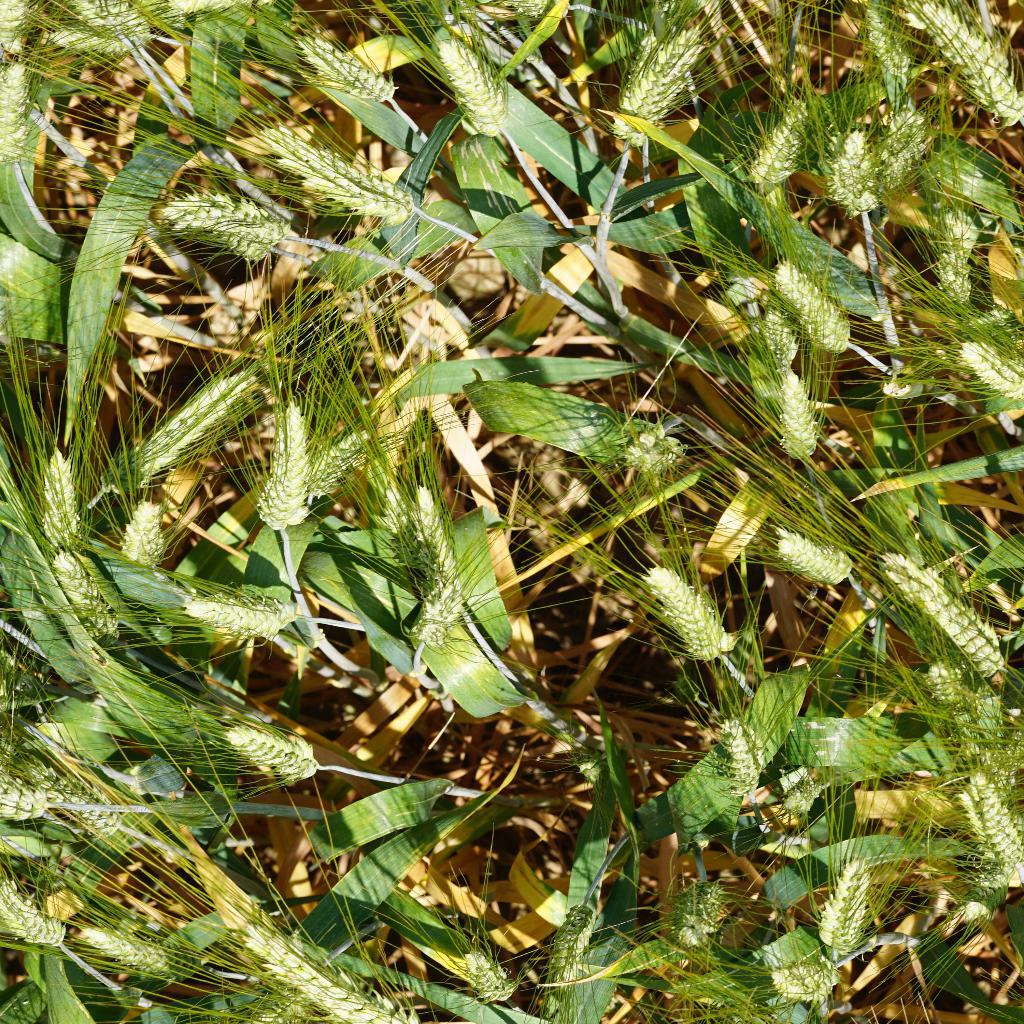0-0: (98, 345, 269, 502), (254, 116, 436, 245), (235, 912, 441, 1024), (875, 544, 1019, 677), (364, 462, 477, 629), (909, 3, 1024, 134), (601, 14, 702, 149), (154, 180, 309, 266), (11, 750, 146, 844), (638, 556, 747, 671), (160, 561, 314, 638), (807, 841, 893, 976), (430, 19, 515, 153), (283, 19, 397, 118), (34, 535, 133, 641), (762, 260, 869, 355), (530, 886, 612, 1006), (208, 714, 329, 789), (944, 765, 1024, 878), (744, 85, 821, 197), (759, 512, 860, 597), (253, 395, 311, 535), (864, 94, 942, 197), (243, 945, 344, 1024), (759, 357, 832, 466), (656, 877, 742, 961), (751, 949, 871, 1008), (399, 482, 463, 585), (609, 402, 686, 484), (825, 118, 886, 221), (23, 434, 83, 538), (844, 0, 916, 85), (953, 328, 1024, 413), (397, 570, 470, 651), (71, 925, 179, 979), (938, 855, 1019, 927), (39, 7, 140, 63), (302, 417, 370, 499), (744, 292, 810, 374), (916, 658, 987, 732), (456, 940, 525, 1015), (706, 717, 765, 804), (109, 492, 178, 565), (0, 883, 75, 950), (923, 232, 975, 320), (944, 299, 1024, 356), (776, 761, 836, 836), (0, 69, 37, 172), (55, 0, 152, 36), (0, 779, 64, 825), (996, 0, 1024, 81), (565, 745, 610, 790)
